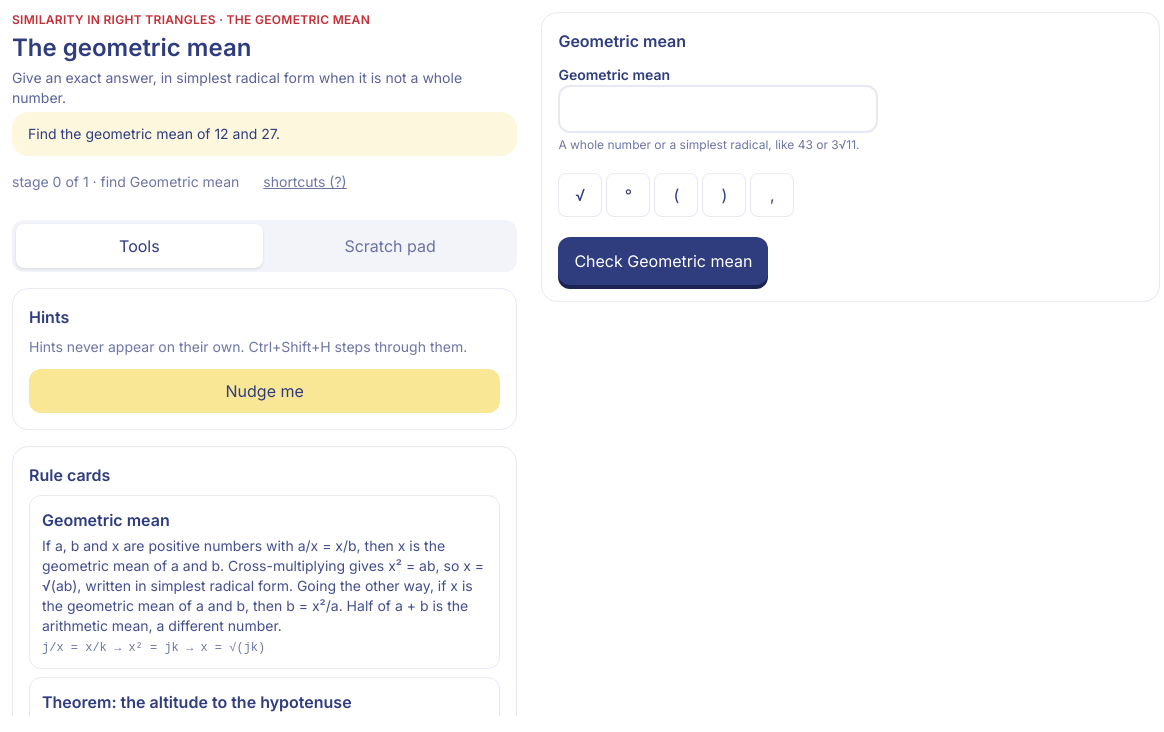
Test: GeometryFlow unit 7 geoRightSimilar/rs.mean › an unreadable answer records nothing
Click the button "Check Geometric mean": (663, 261) left=558, top=237, right=768, bottom=285
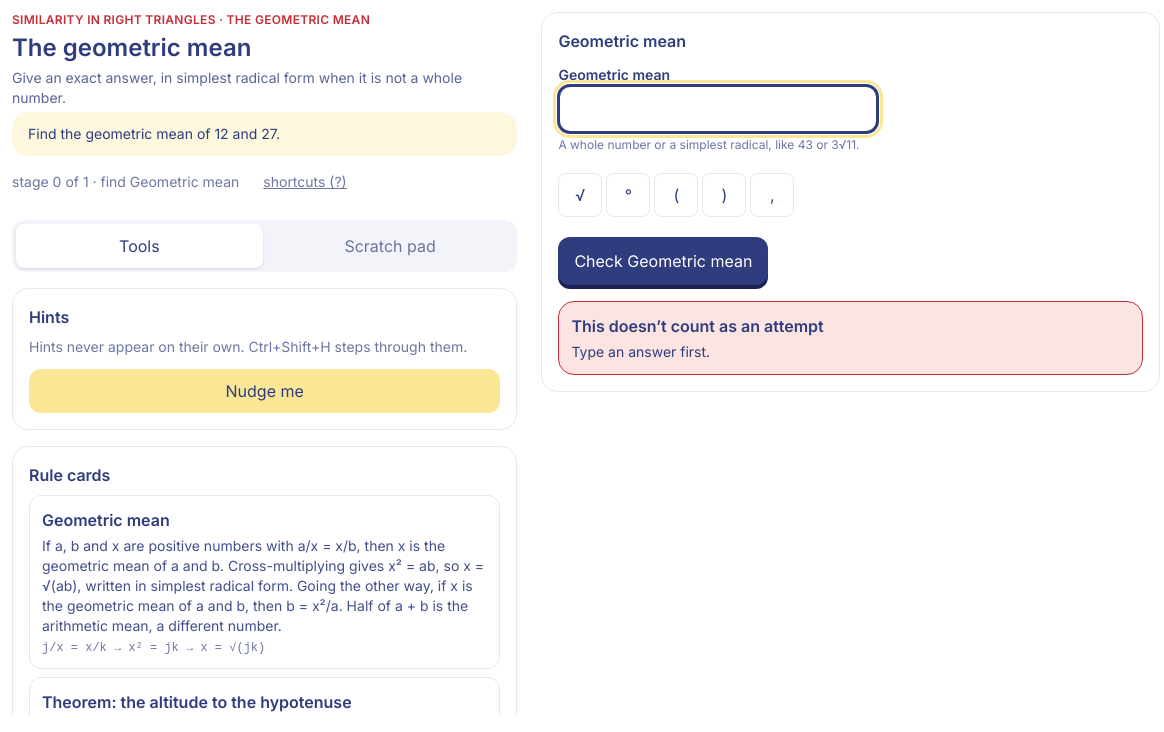
Now the message shows "This doesn’t count as an attempt", box left=571, top=316, right=824, bottom=336
In the field labelled "Geometric mean": (718, 109) left=558, top=85, right=878, bottom=133, type "???"
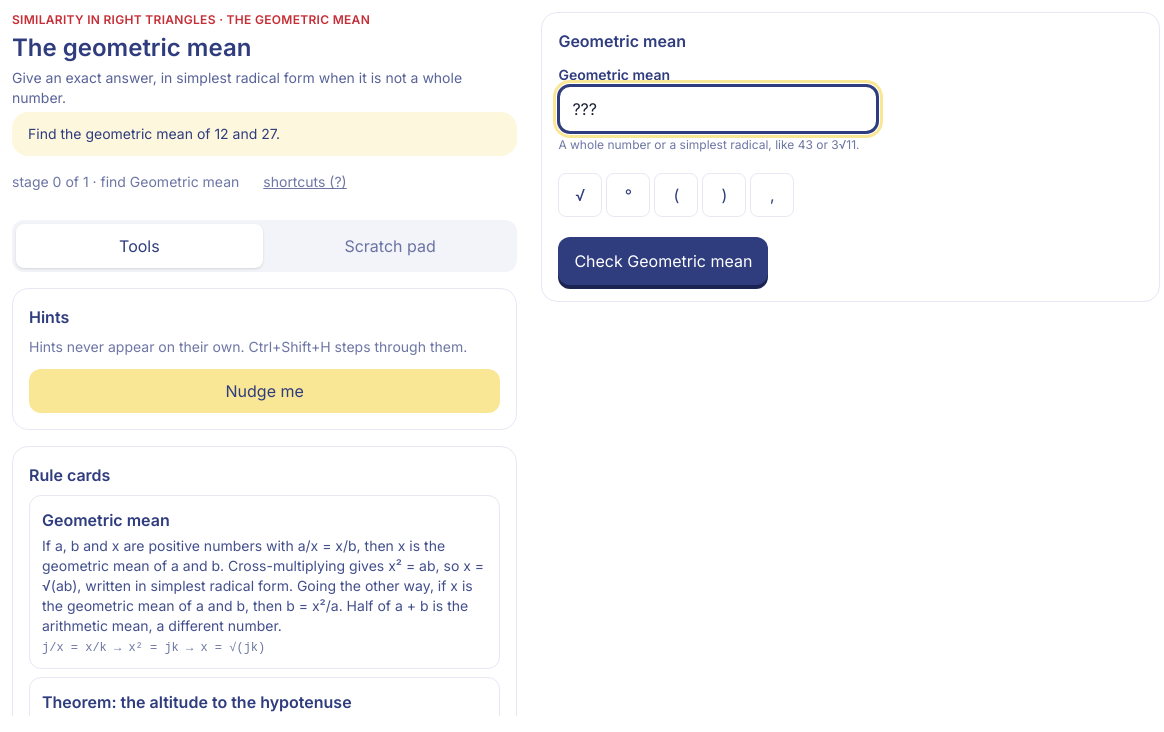
Now the message "This doesn’t count as an attempt Type an answer first." is gone
Click the button "Check Geometric mean": (663, 261) left=558, top=237, right=768, bottom=285
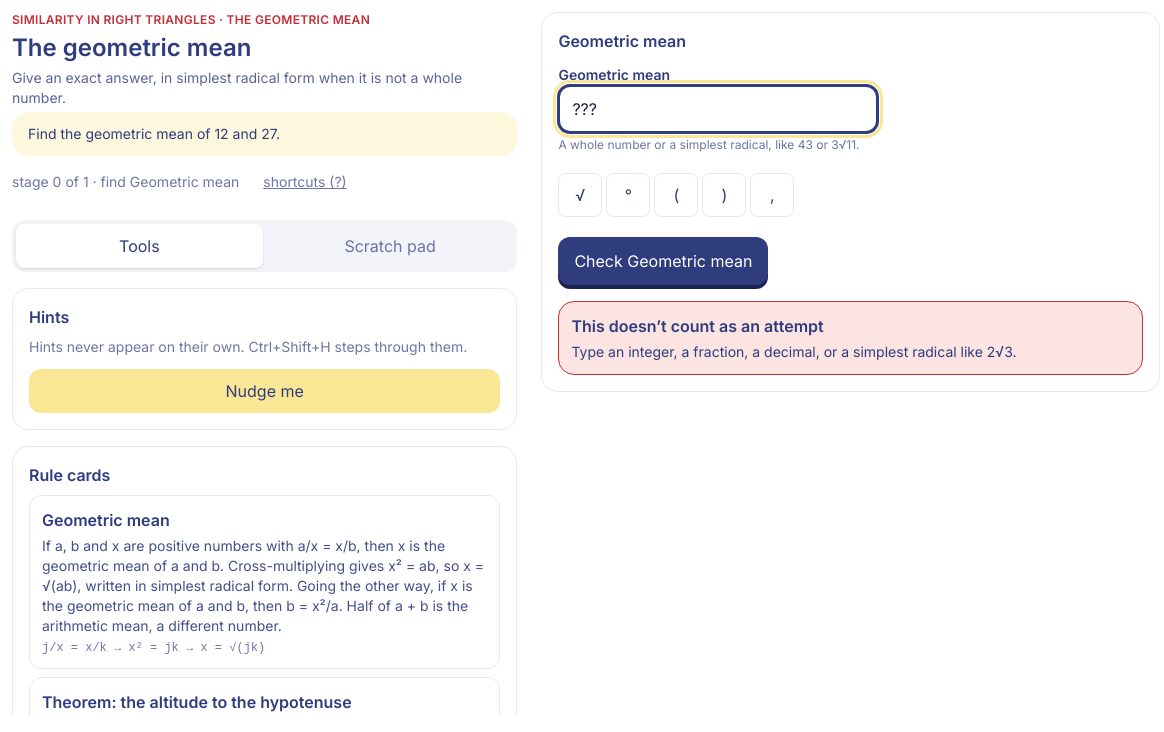
Now the message shows "This doesn’t count as an attempt", box left=571, top=316, right=824, bottom=336
